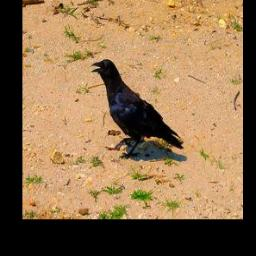Crow: (91, 58, 183, 158)
